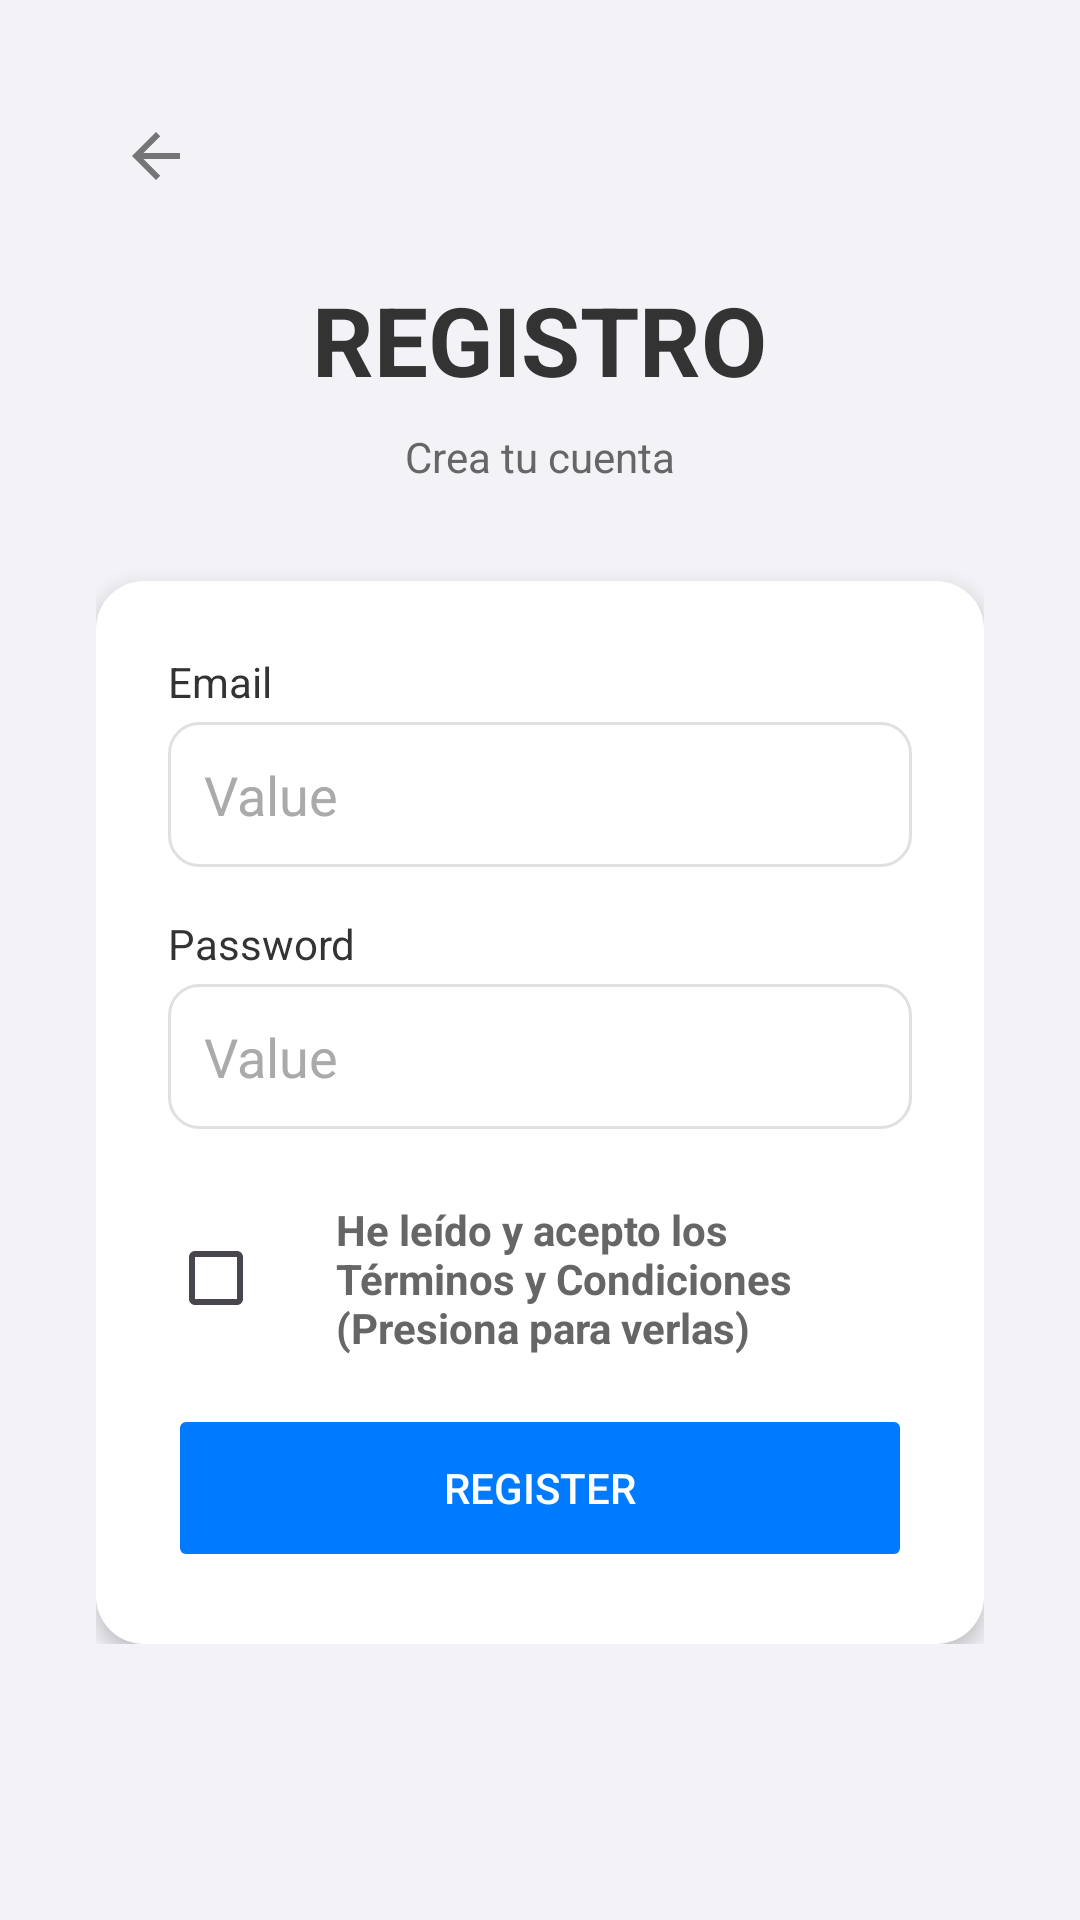

Screen size 1080 x 1920. Icon name, then its box in pixels as {"left": x1, "top": y1, "right": x2, "bottom": y2}:
Go back: {"left": 132, "top": 132, "right": 180, "bottom": 180}
